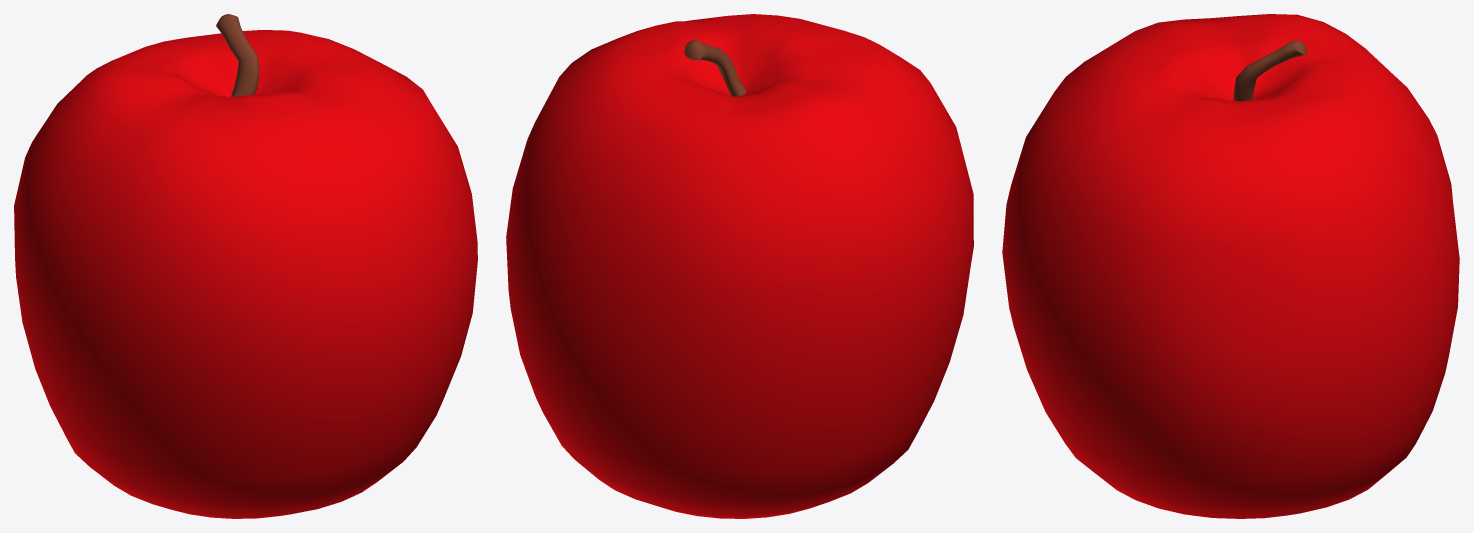
File: jablko.fbx
3 renders of one model, left to right at view 1: azimuth 30°, elevation 25°; view 2: azimuth 150°, elevation 25°; view 3: azimuth 270°, elevation 25°, orthographic. The views are drawn at different scales.
Visible parts, largest first — view 1: Sphere; view 2: Sphere; view 3: Sphere.
Boxes of the visible parts, <box> form: Sphere: <box>14,14,477,518</box>; Sphere: <box>506,14,973,518</box>; Sphere: <box>1002,14,1459,518</box>.
Size of the model in its own units: 189 by 196 by 186.
